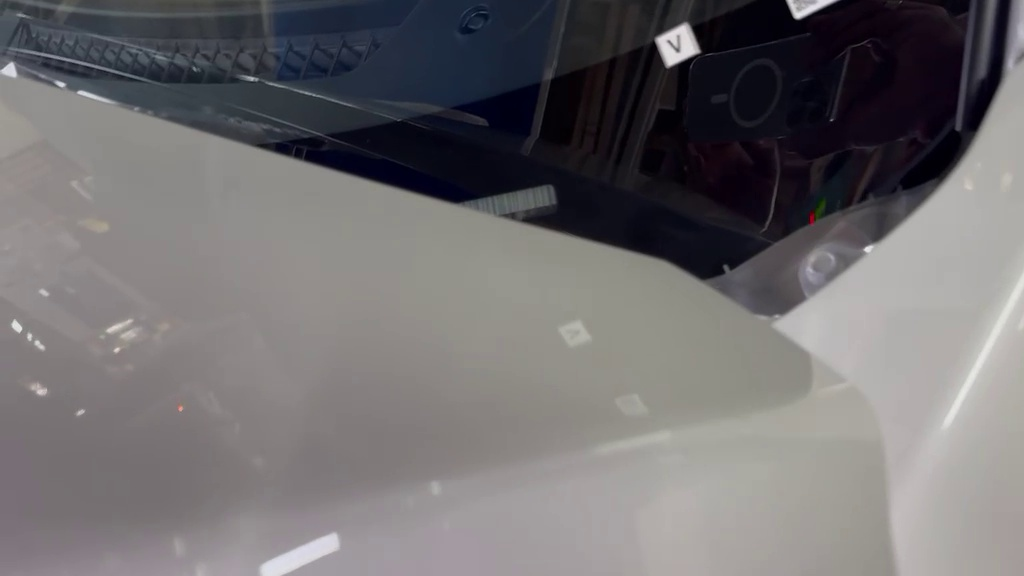hinge: (415, 176, 601, 237)
